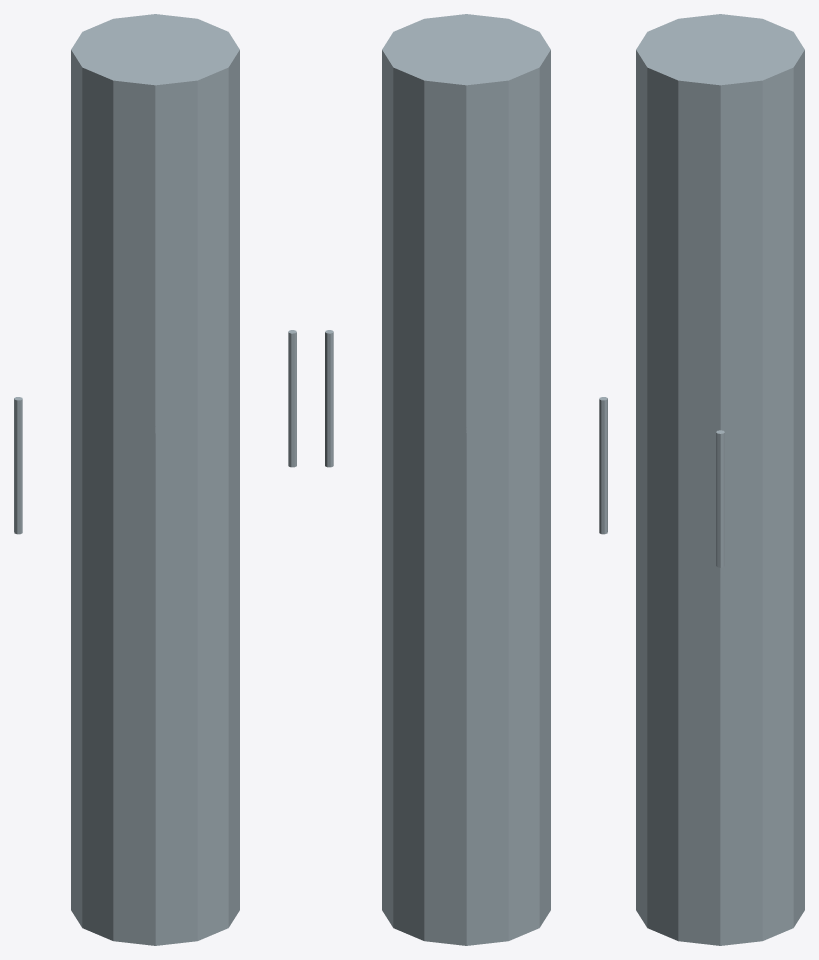
Rendered from Tool_EnergySiphon.fbx.
The picture shows the model from 3 angles, left to right: view 1: azimuth 30°, elevation 25°; view 2: azimuth 150°, elevation 25°; view 3: azimuth 270°, elevation 25°; orthographic projection.
Visible parts, largest first — view 1: Siphon_Body, Siphon_ProngL, Siphon_ProngR; view 2: Siphon_Body, Siphon_ProngL, Siphon_ProngR; view 3: Siphon_Body, Siphon_ProngL.
Part boxes in pixels (<box>): Siphon_Body: <box>71,14,239,945</box>; Siphon_ProngL: <box>288,330,296,467</box>; Siphon_ProngR: <box>14,397,22,534</box>; Siphon_Body: <box>382,14,550,945</box>; Siphon_ProngL: <box>325,330,333,467</box>; Siphon_ProngR: <box>599,397,607,534</box>; Siphon_Body: <box>636,14,804,945</box>; Siphon_ProngL: <box>716,430,724,567</box>.
Size of the model in its own units: 123 by 360 by 64.
